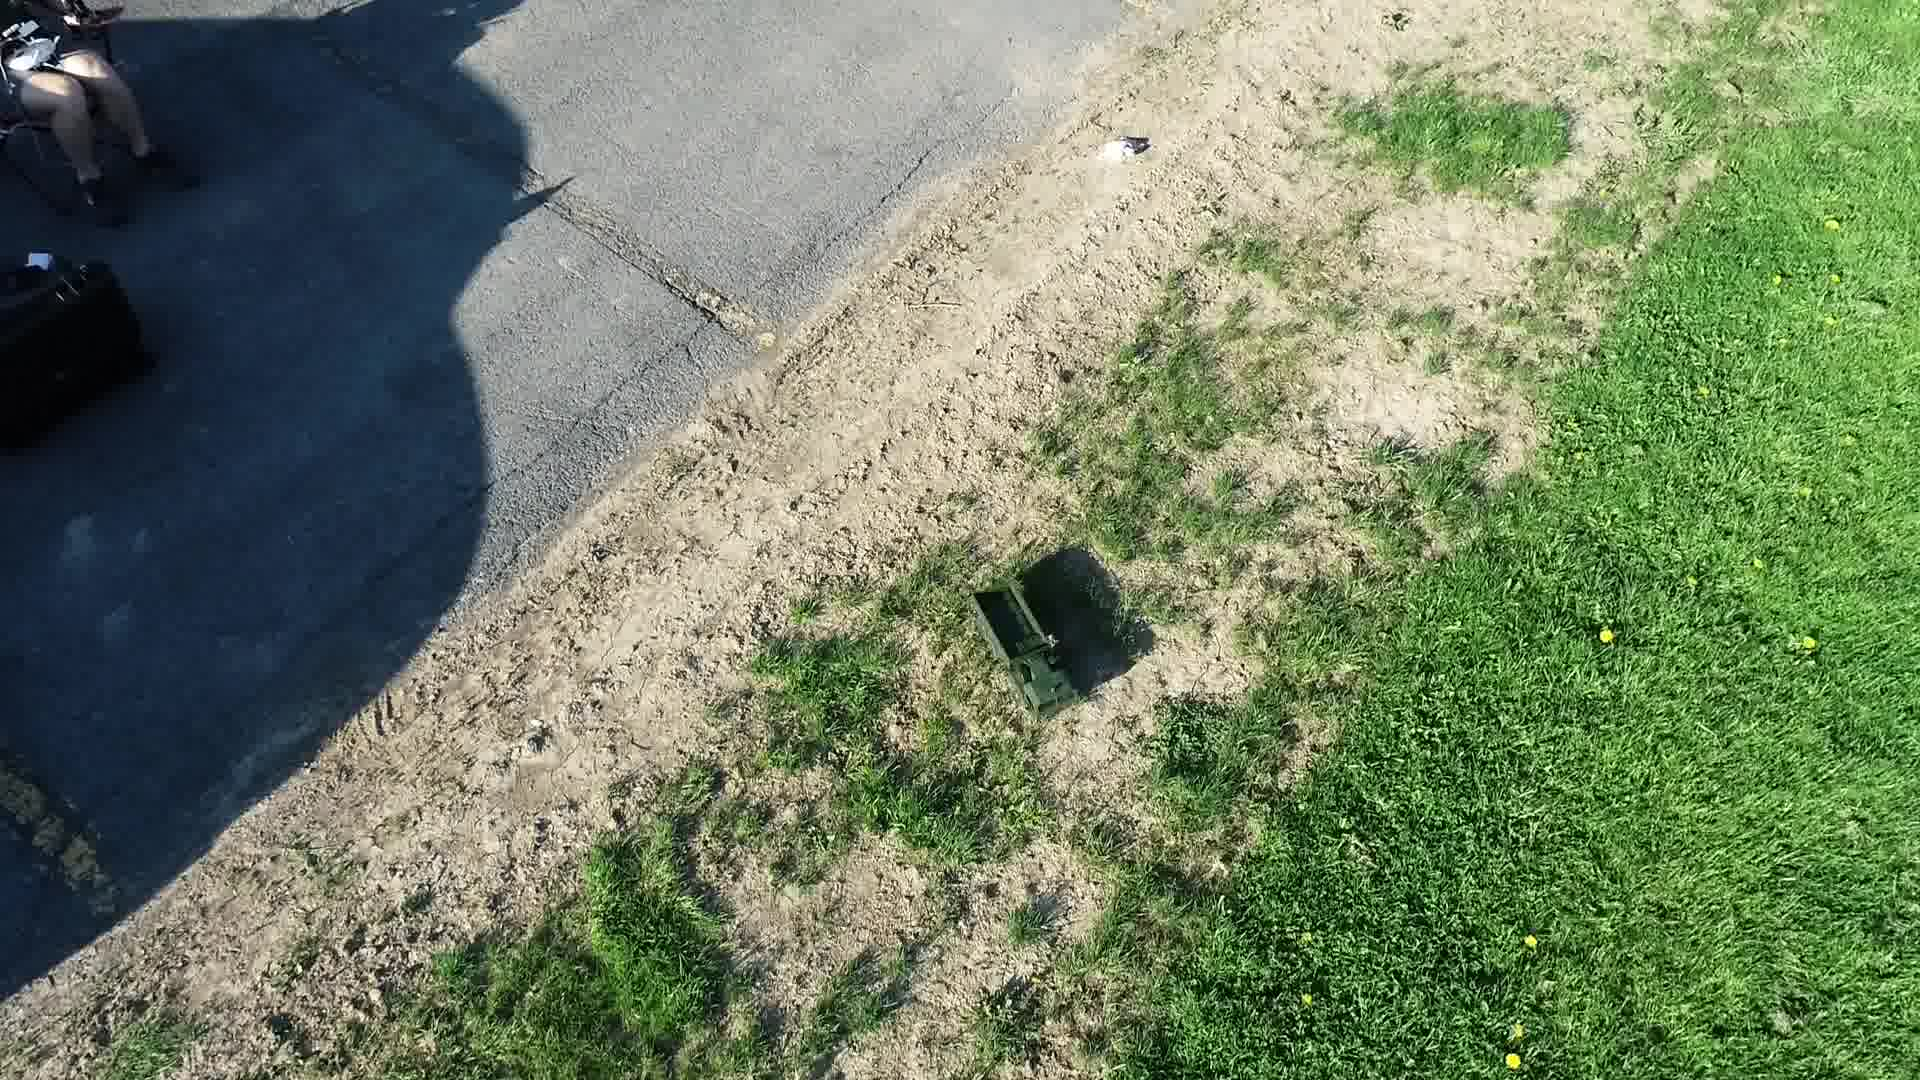transporter9: (964, 574, 1093, 731)
